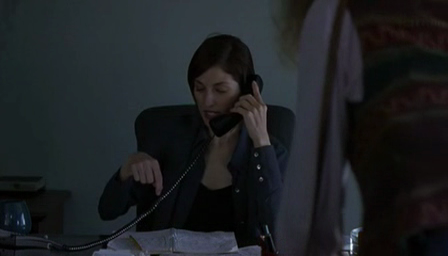face: (194, 68, 234, 127)
mcu: (1, 1, 448, 256)
person: (98, 32, 296, 248)
